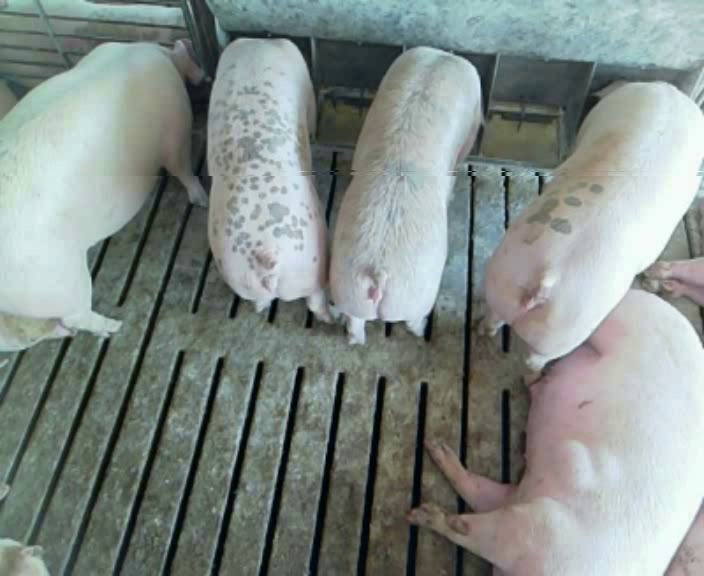pig: (408, 291, 703, 573), (479, 80, 703, 368), (0, 39, 206, 350), (330, 47, 480, 343), (207, 39, 330, 321)
